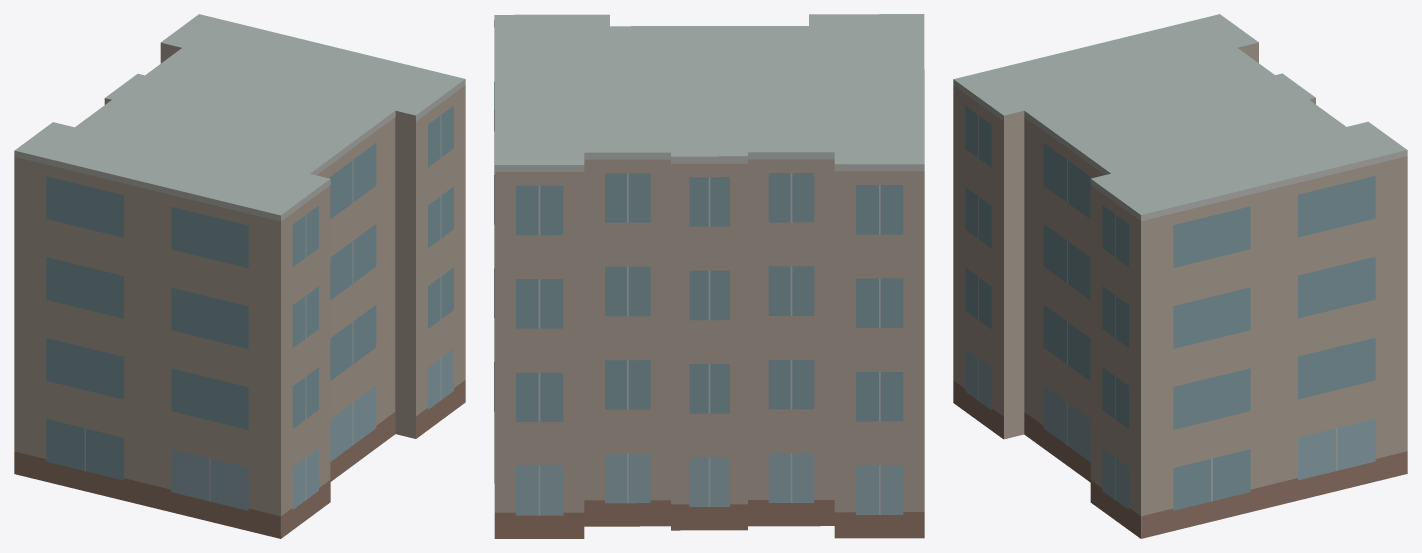
Rendered from survey-upis-32713781.glb.
3 views of the same model, side by side, from view 1: azimuth 30°, elevation 25°; view 2: azimuth 150°, elevation 25°; view 3: azimuth 270°, elevation 25° (orthographic). The views are drawn at different scales.
Visible parts, largest first — view 1: survey-upis-32713781.tmp; view 2: survey-upis-32713781.tmp; view 3: survey-upis-32713781.tmp.
Boxes of the visible parts, <box> form: survey-upis-32713781.tmp: <box>14,14,465,538</box>; survey-upis-32713781.tmp: <box>494,14,924,538</box>; survey-upis-32713781.tmp: <box>953,14,1407,538</box>.
Bounding box in the file's own units: 17.13 × 12.85 × 16.34.
